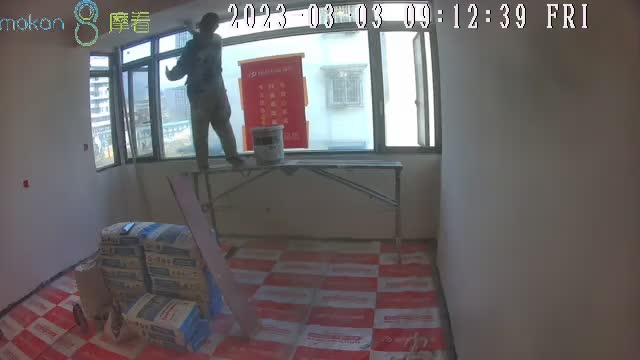people: (165, 13, 241, 170)
window: (90, 6, 439, 160)
